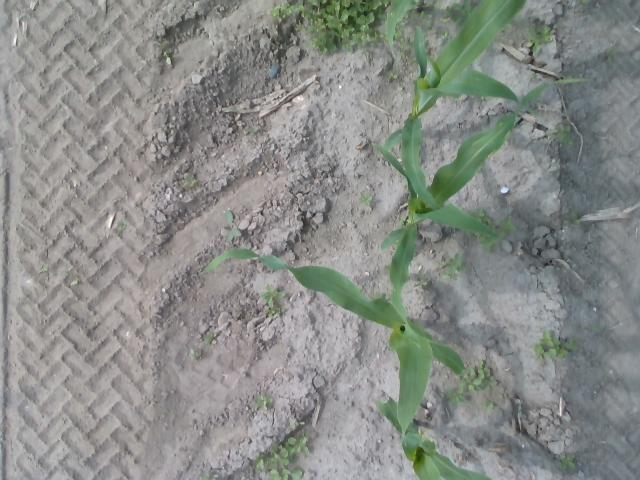Maize: (205, 220, 466, 431), (380, 82, 594, 248), (400, 1, 526, 119), (376, 398, 503, 478)
Weeds: (269, 0, 386, 52), (251, 436, 316, 480), (474, 205, 512, 252), (533, 328, 576, 362), (459, 358, 500, 392), (438, 0, 476, 28), (524, 25, 554, 55), (439, 253, 466, 283), (258, 284, 289, 310), (551, 116, 579, 144), (221, 209, 238, 246), (448, 388, 471, 409), (40, 256, 54, 284), (254, 395, 278, 411), (114, 216, 132, 234), (180, 172, 197, 190), (606, 47, 621, 67), (204, 332, 218, 346), (482, 400, 498, 412), (362, 191, 374, 207), (562, 456, 576, 469), (188, 351, 204, 361), (247, 125, 259, 136)
